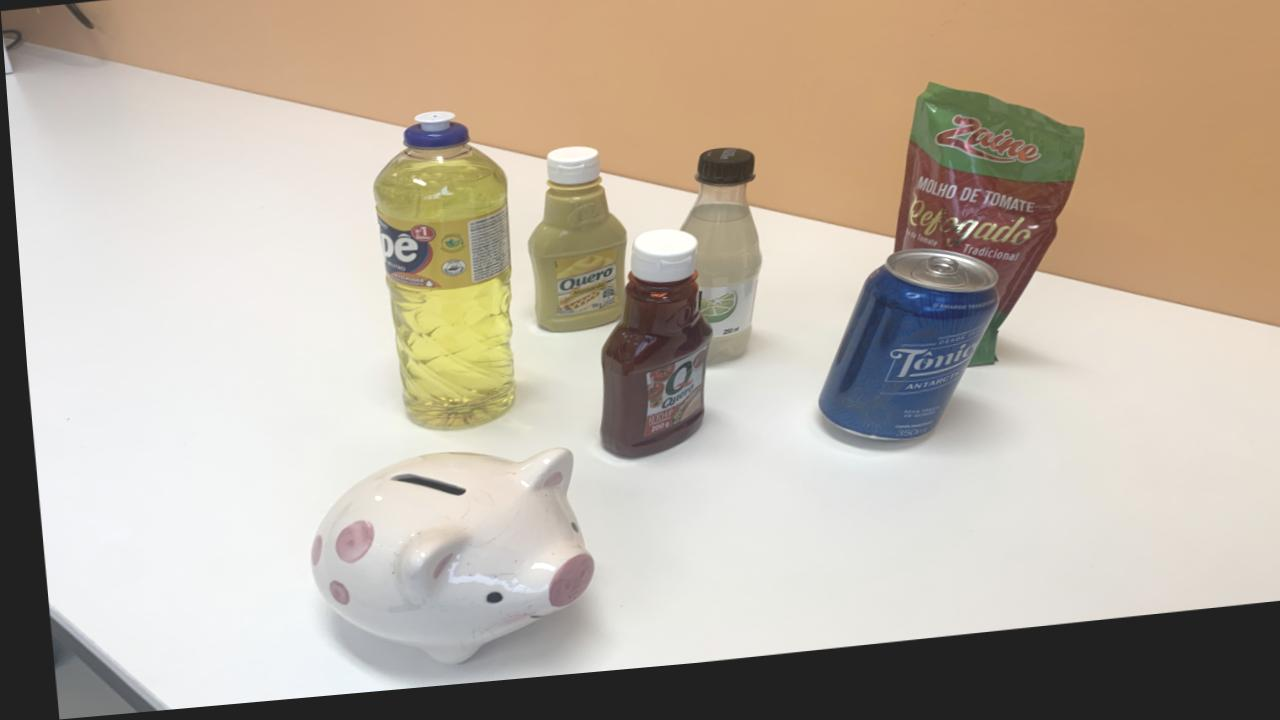Detergent-Cleanup_Items: (370, 120, 509, 437)
Ketchup-Pantry_Items: (593, 241, 706, 469)
Mustard-Pantry_Items: (523, 157, 622, 342)
Pig_Safe-Miscellaneous: (300, 457, 585, 672)
Soda-Drinks: (678, 160, 756, 376)
Tomato_Sauce-Pantry_Items: (888, 100, 1081, 384)
Tonic-Drinks: (812, 265, 993, 456)
